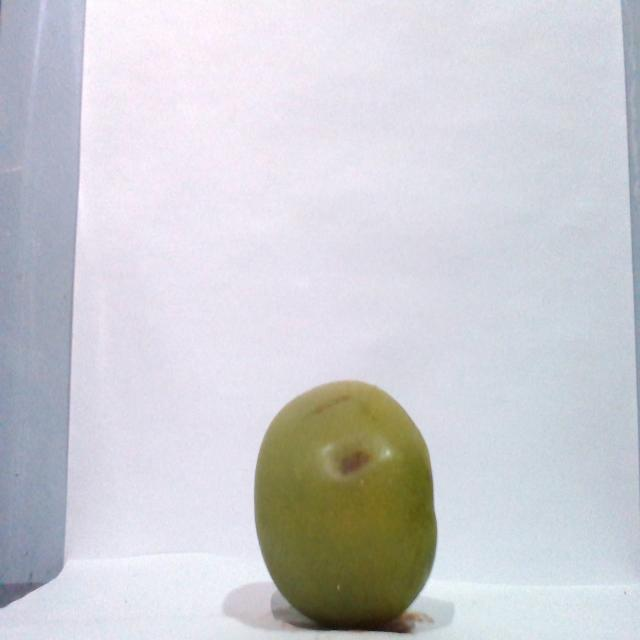Red: (252, 378, 438, 628)
